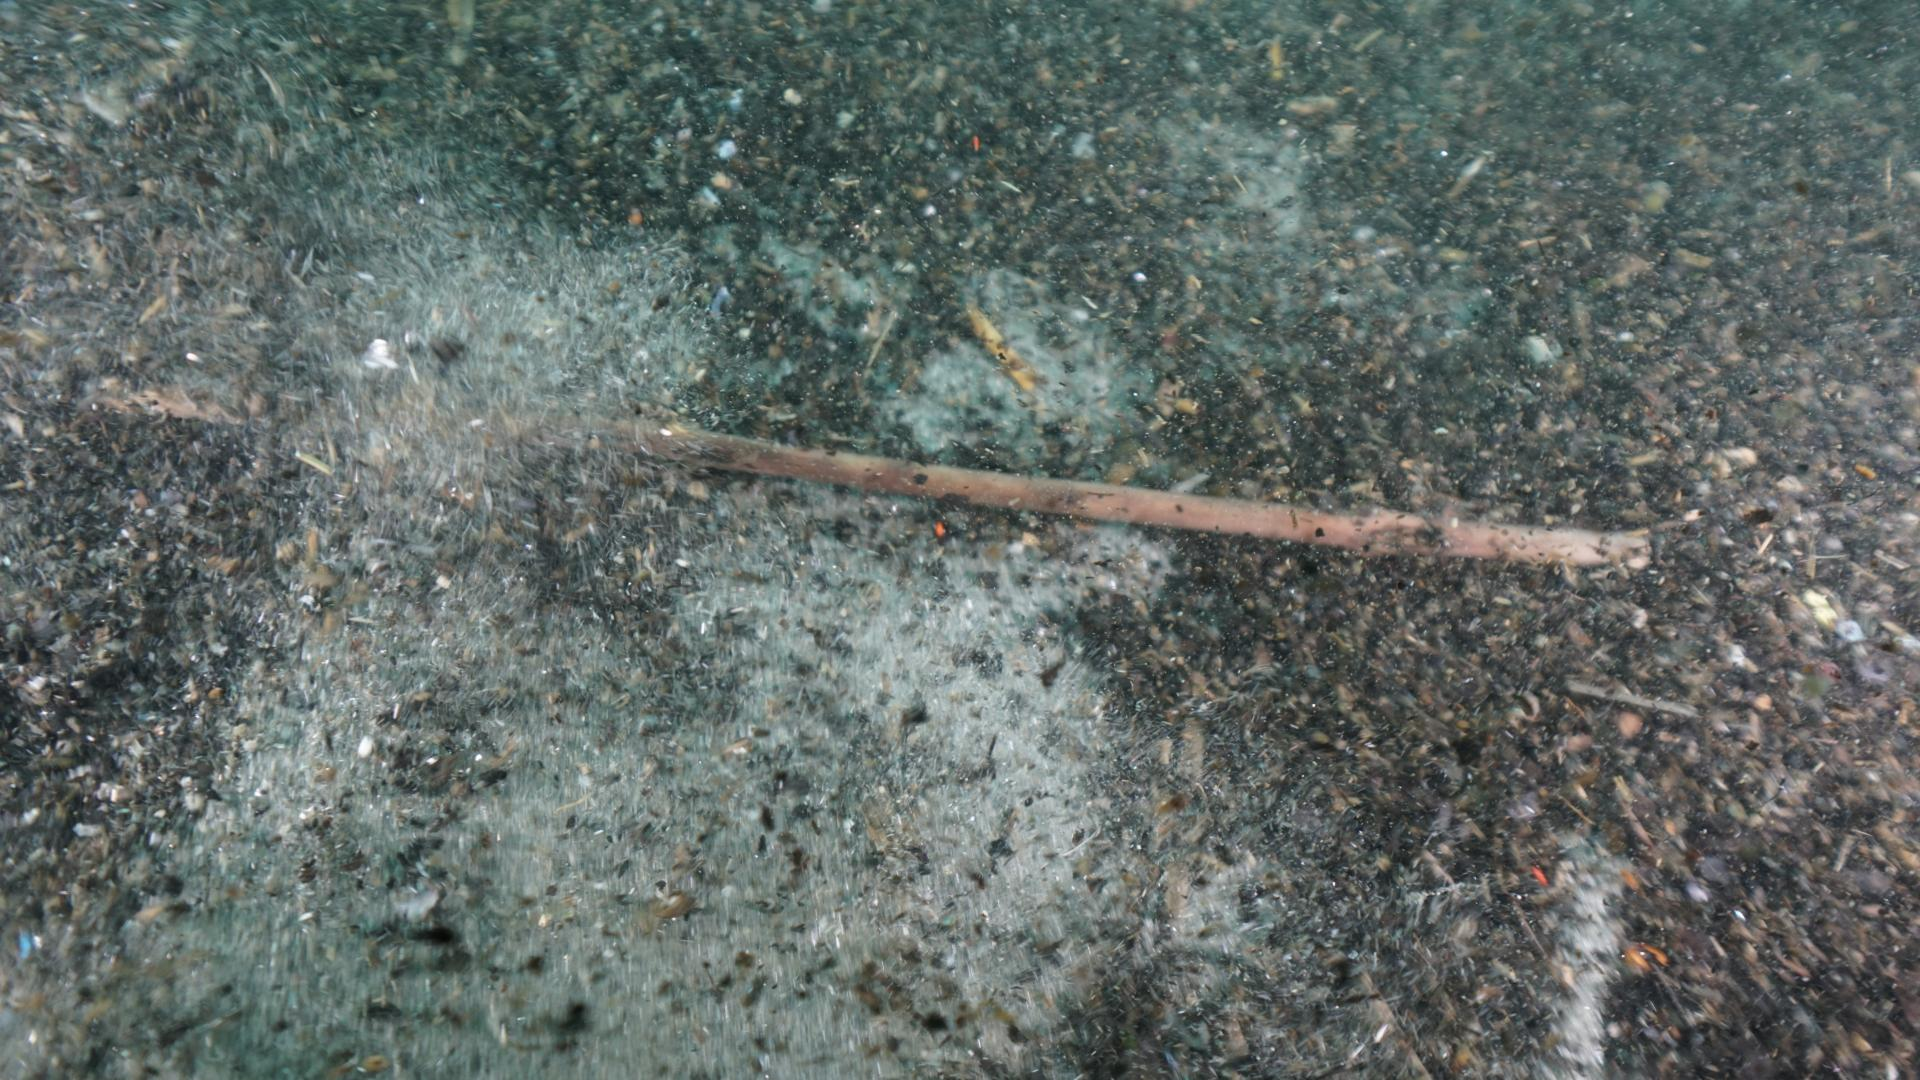wood: (611, 418, 1651, 571)
